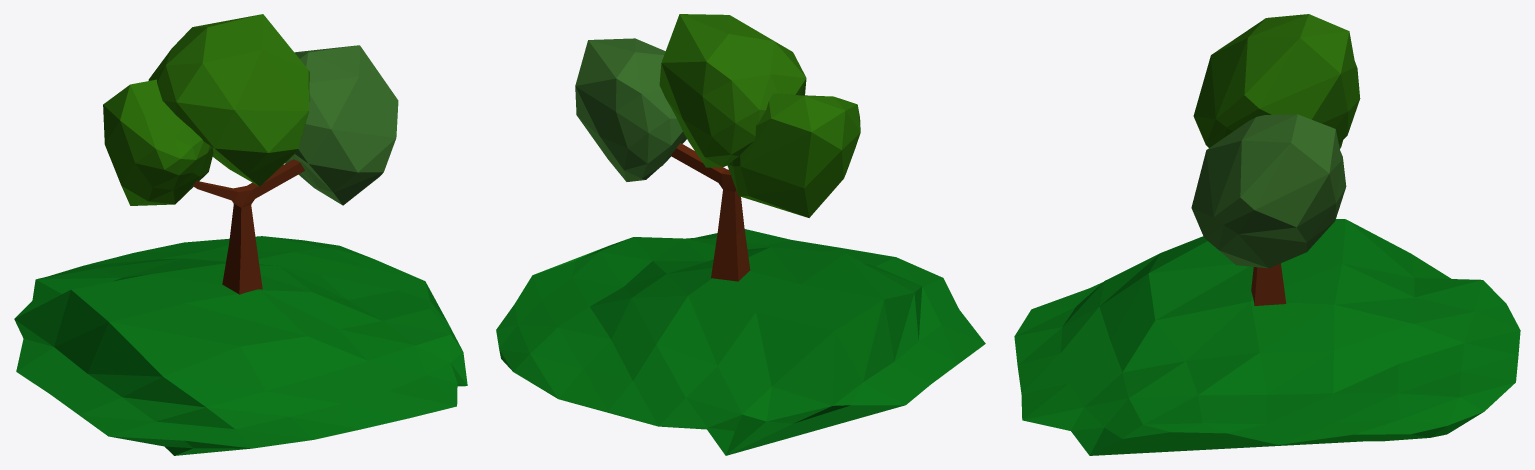
Rendered from tree.glb.
The picture shows the model from 3 angles, left to right: view 1: azimuth 30°, elevation 25°; view 2: azimuth 150°, elevation 25°; view 3: azimuth 270°, elevation 25°; orthographic projection. The views are drawn at different scales.
Visible parts, largest first — view 1: Куб; view 2: Куб; view 3: Куб.
Boxes of the visible parts, x1,y1,x2,y2 form: Куб: (14, 14, 467, 455); Куб: (496, 14, 985, 455); Куб: (1014, 14, 1520, 455).
Bounding box in the file's own units: 1.72 × 1.47 × 1.79.
